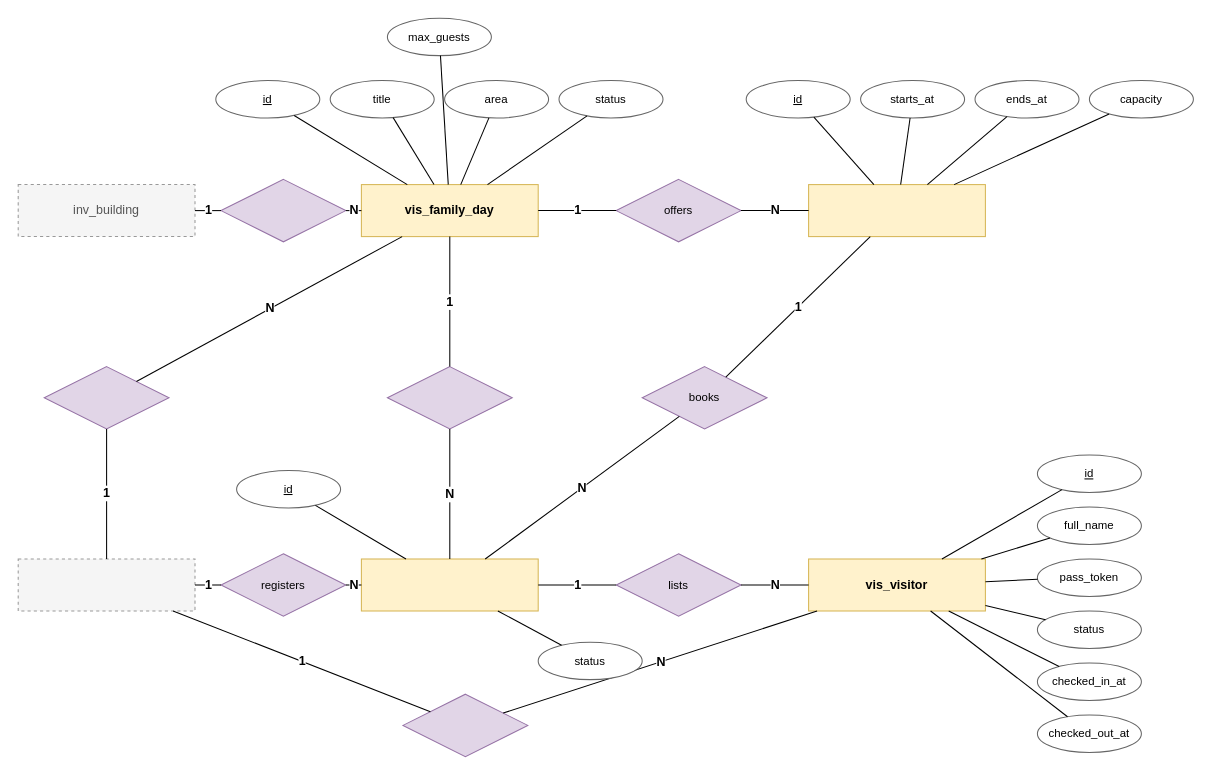
The diagram is 1212 pixels wide and 775 high, and some of its shapes have lost their labels. The centre of each missing label's shape, as x and y in pixels:
"auth_user" belongs at (x=106, y=584).
"checks in / out" belongs at (x=465, y=725).
"creates" belongs at (x=106, y=397).
"hosts" belongs at (x=283, y=210).
"receives" belongs at (x=449, y=397).
"vis_registration" belongs at (x=449, y=584).
"vis_time_slot" belongs at (x=896, y=210).
